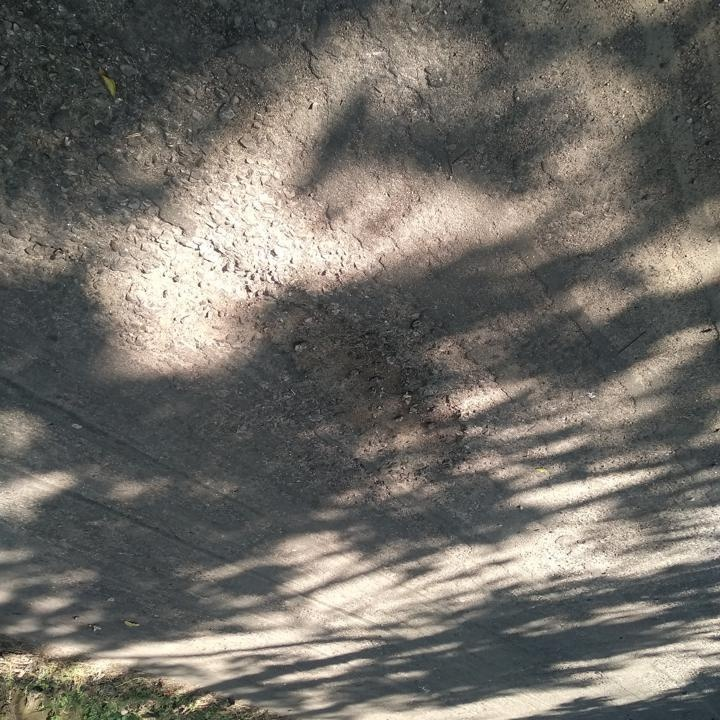pothole: (242, 279, 471, 482)
